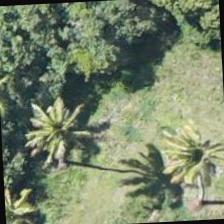Kelapa_Sawit: (2, 80, 97, 175), (133, 111, 223, 207)
